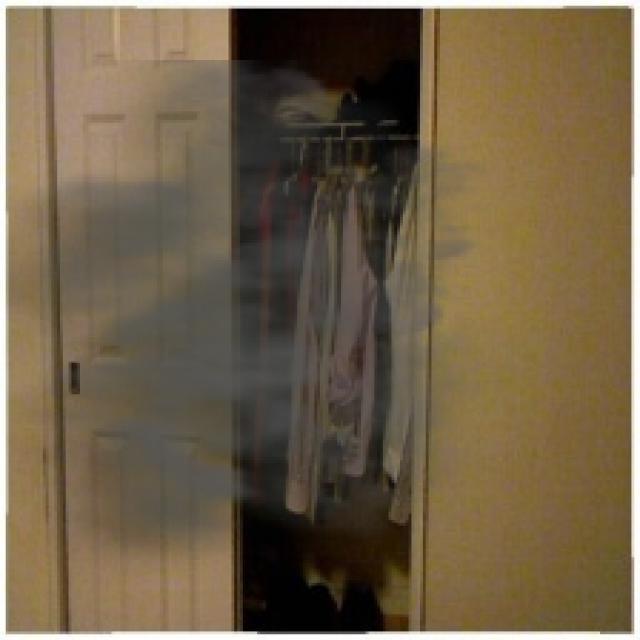smoke: (6, 60, 537, 586)
